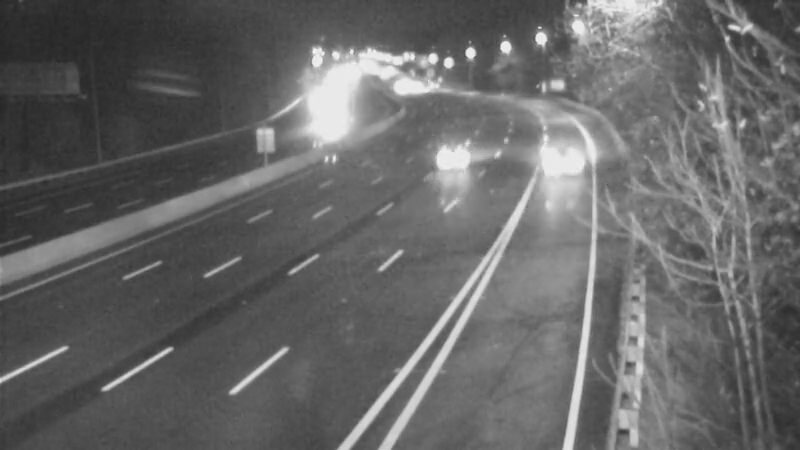vehicle: (508, 116, 588, 196), (414, 117, 494, 197), (306, 98, 356, 148)
